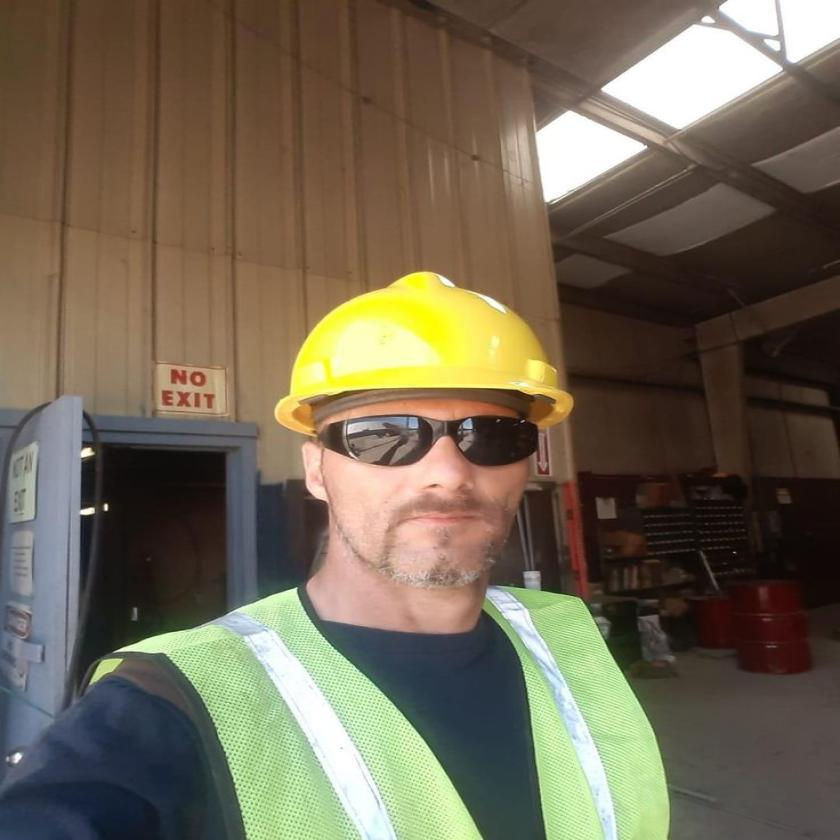Con_casco: (262, 264, 584, 608)
